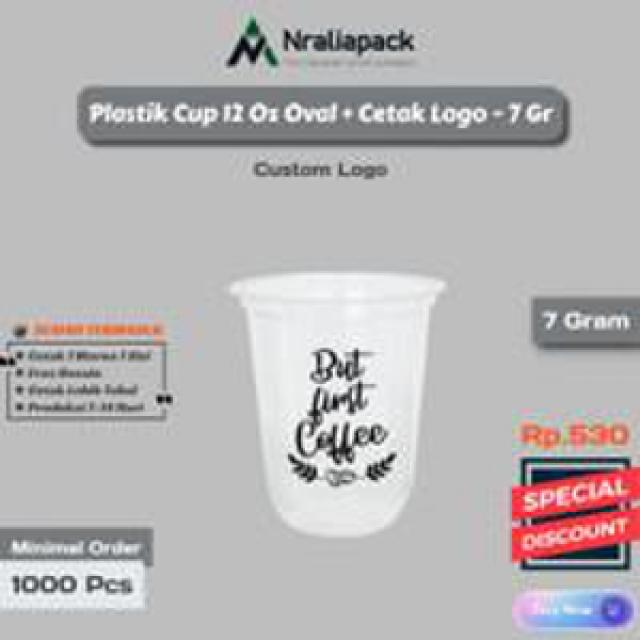plastic cup: (222, 265, 448, 546)
